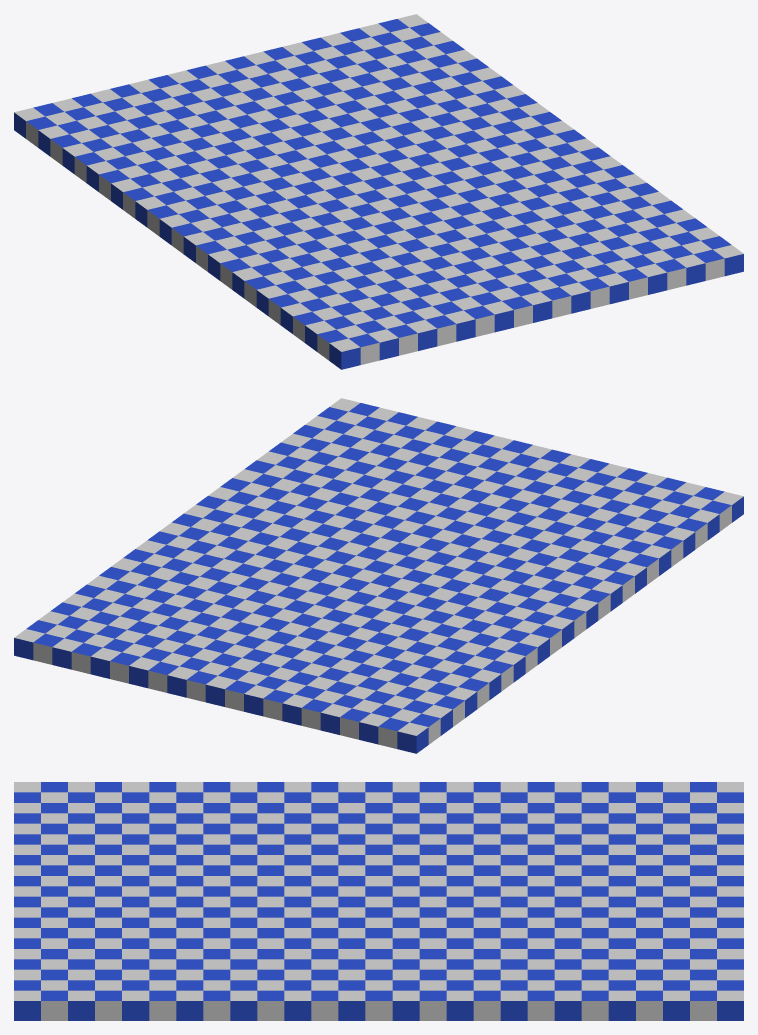
The model's file is dodai.fbx.
The picture shows the model from 3 angles, top to bottom: view 1: azimuth 30°, elevation 25°; view 2: azimuth 150°, elevation 25°; view 3: azimuth 270°, elevation 25°; orthographic projection. The views are drawn at different scales.
Visible parts, largest first — view 1: Cube; view 2: Cube; view 3: Cube.
Boxes of the visible parts, bbox=[...] form: Cube: bbox=[14, 14, 743, 369]; Cube: bbox=[14, 398, 743, 753]; Cube: bbox=[14, 782, 743, 1020].
Bounding box in the file's own units: 1106 × 46.9 × 1559.
